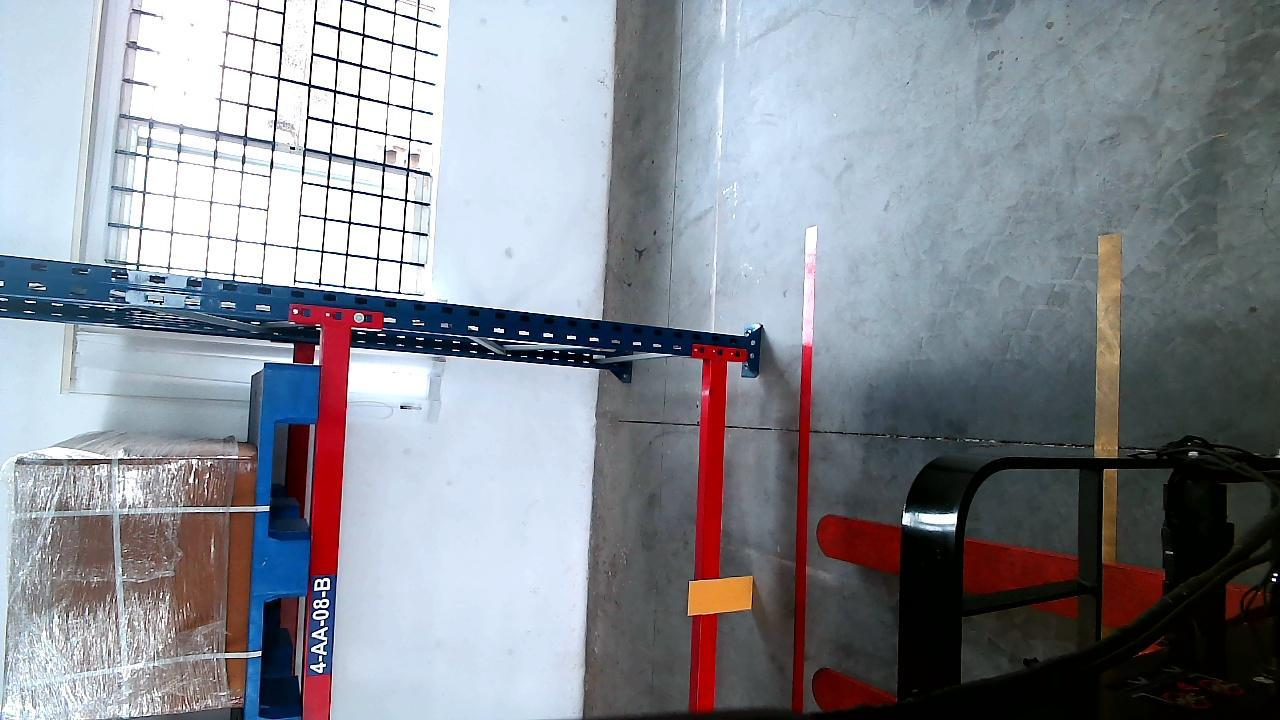red_line: (790, 226, 817, 704)
yellow_line: (1094, 231, 1121, 546)
